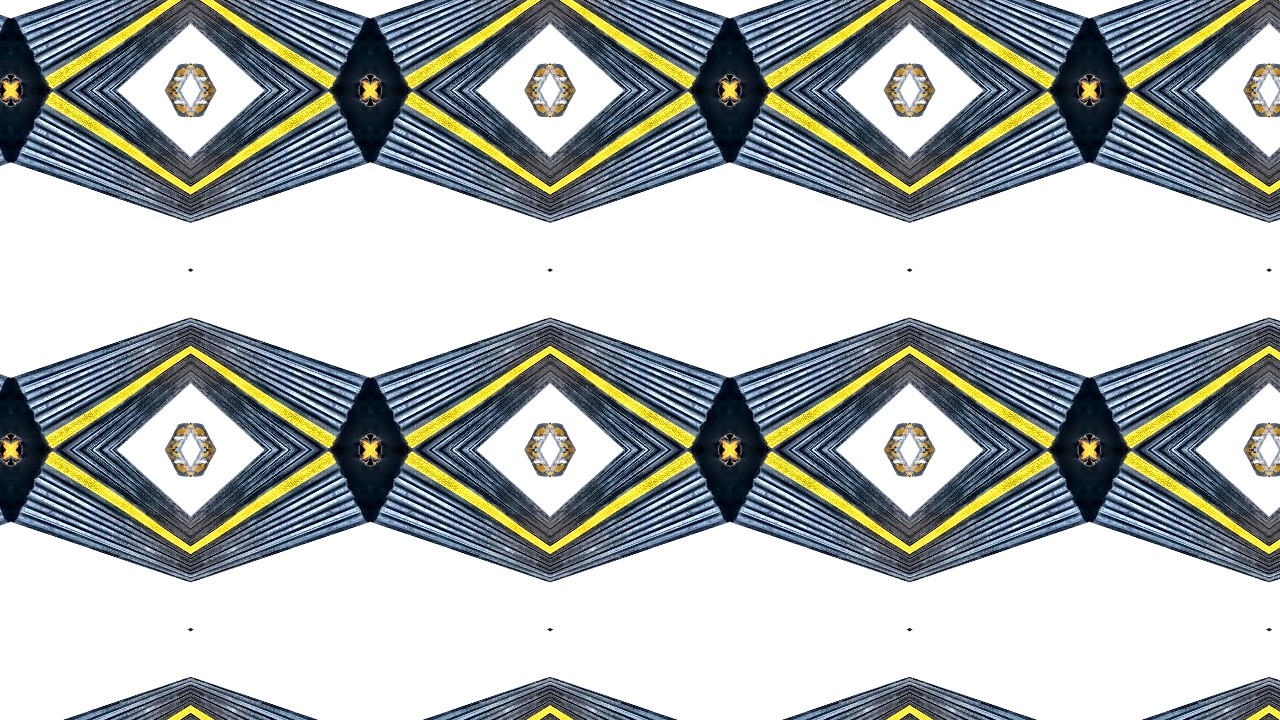chock: (10, 90, 190, 249), (190, 90, 370, 249), (370, 90, 550, 249), (550, 90, 730, 249), (730, 90, 910, 249), (910, 90, 1090, 249), (1090, 90, 1270, 249), (10, 291, 190, 450), (190, 291, 370, 450), (370, 291, 550, 450), (550, 291, 730, 450), (730, 291, 910, 450), (910, 291, 1090, 450), (1090, 291, 1270, 450), (10, 450, 190, 609), (190, 450, 370, 609), (370, 450, 550, 609), (550, 450, 730, 609), (730, 450, 910, 609), (910, 450, 1090, 609), (1090, 450, 1270, 609), (10, 0, 190, 90), (190, 0, 370, 90), (370, 0, 550, 90), (550, 0, 730, 90), (730, 0, 910, 90), (910, 0, 1090, 90), (1090, 0, 1270, 90), (10, 651, 190, 720), (190, 651, 370, 720), (370, 651, 550, 720), (550, 651, 730, 720), (730, 651, 910, 720), (910, 651, 1090, 720), (1090, 651, 1270, 720), (0, 90, 10, 249), (1270, 90, 1280, 249), (0, 291, 10, 450), (1270, 291, 1280, 450), (0, 450, 10, 609), (1270, 450, 1280, 609)
